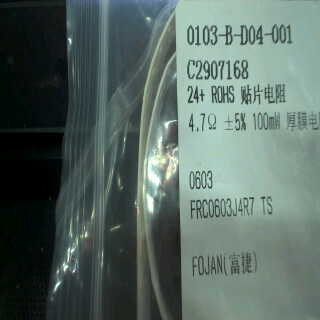4.7R: (186, 110, 219, 136)
